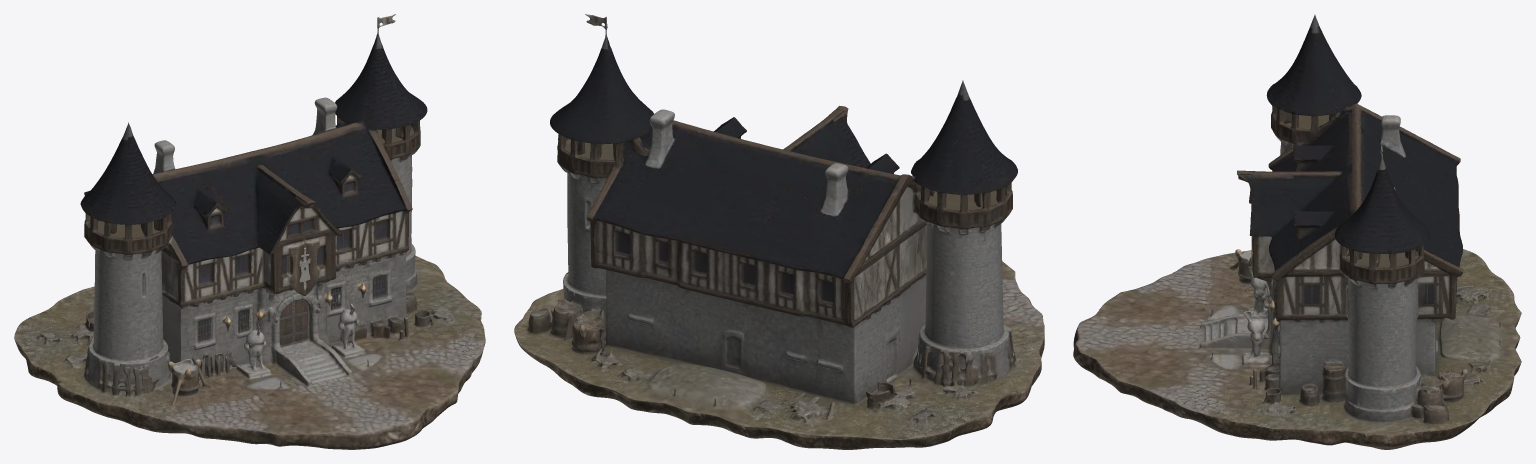
The model's file is hofwache.glb.
3 renders of one model, left to right at view 1: azimuth 30°, elevation 25°; view 2: azimuth 150°, elevation 25°; view 3: azimuth 270°, elevation 25°, orthographic. The views are drawn at different scales.
Size of the model in its own units: 1.9 by 1.33 by 1.81.
1 material, 1 textured.
